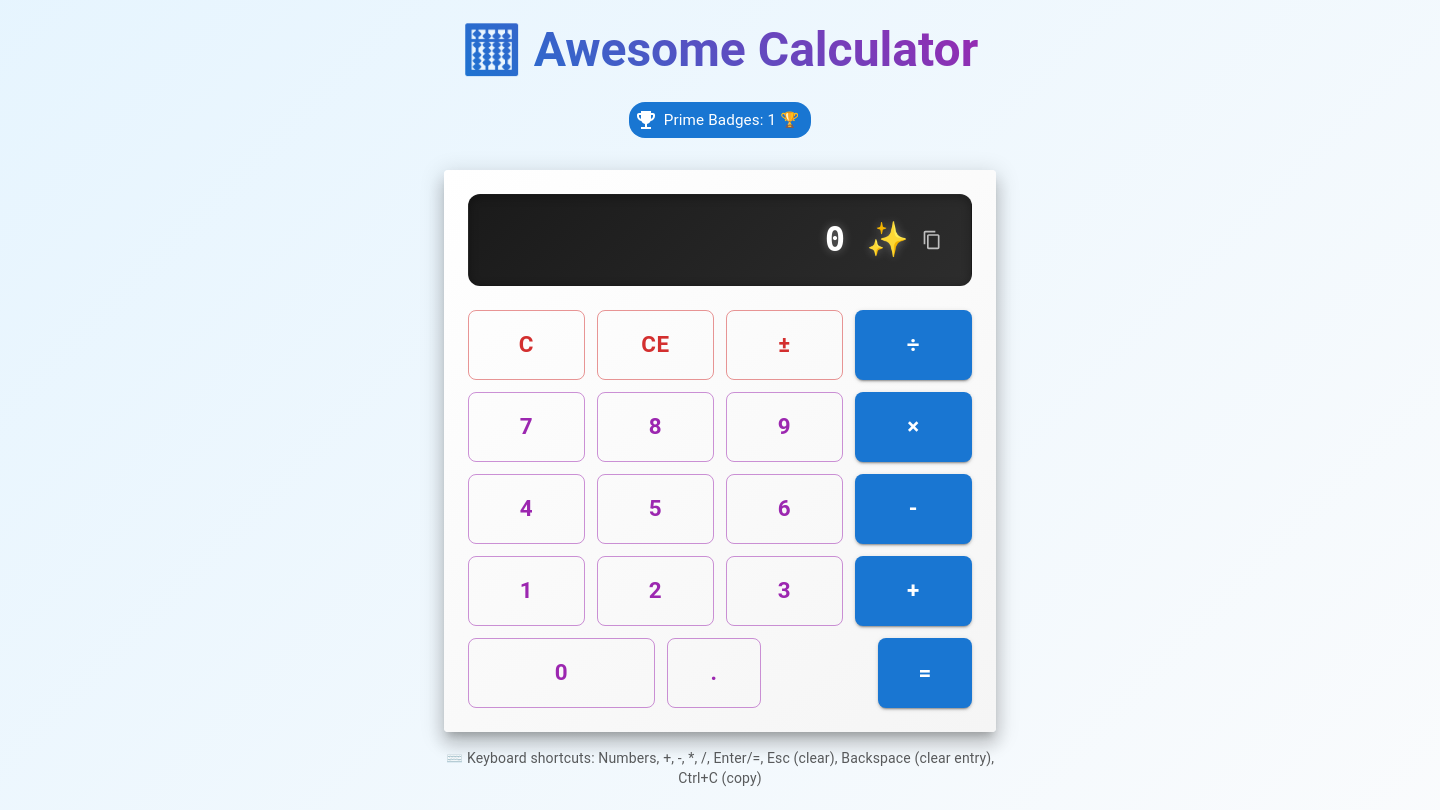
Calculator › Arithmetic Operations › handles chain calculations
This screenshot has width=1440, height=810.
Click the button "2" at (656, 591), box 597,556 -> 714,626
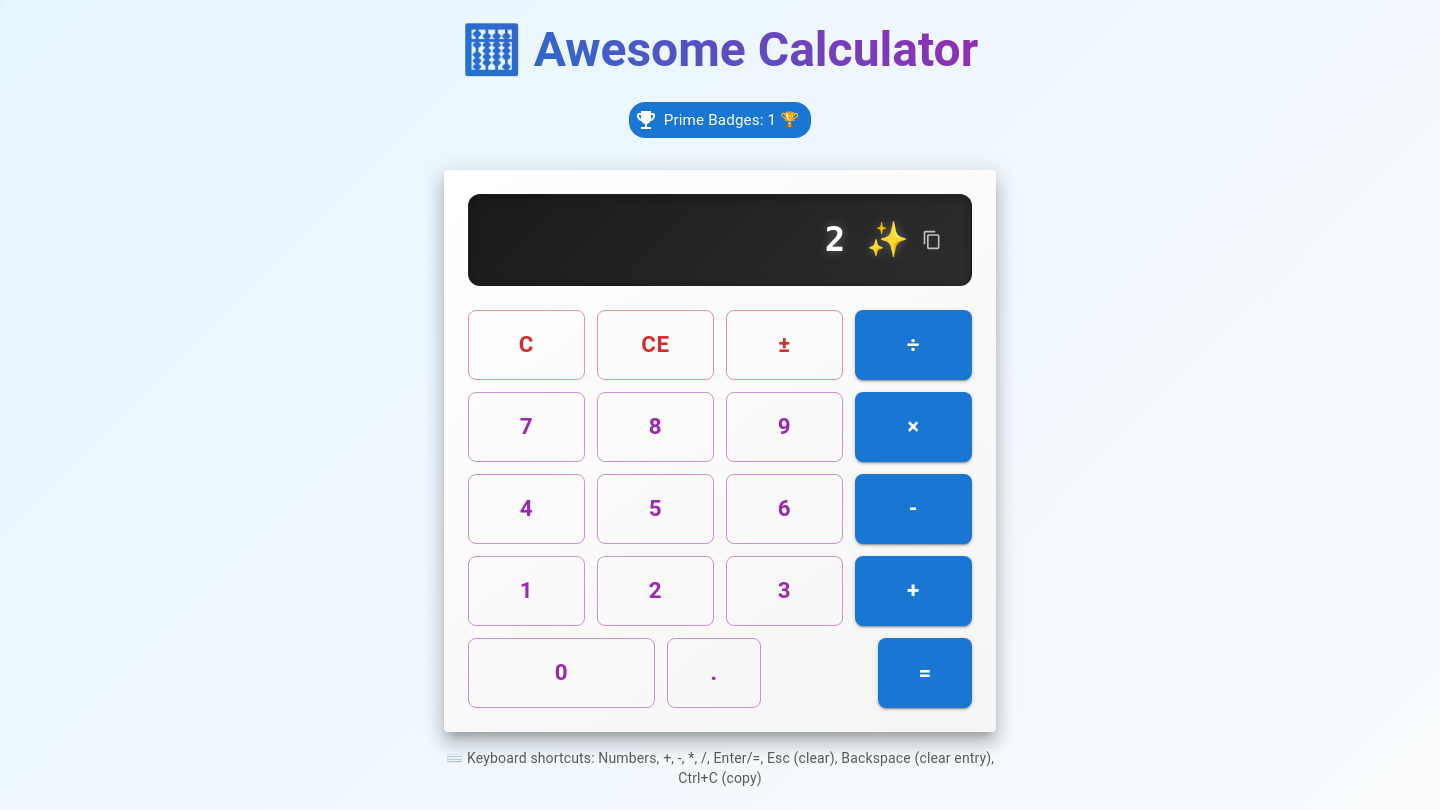
Click the button "+" at (914, 591), box 855,556 -> 972,626
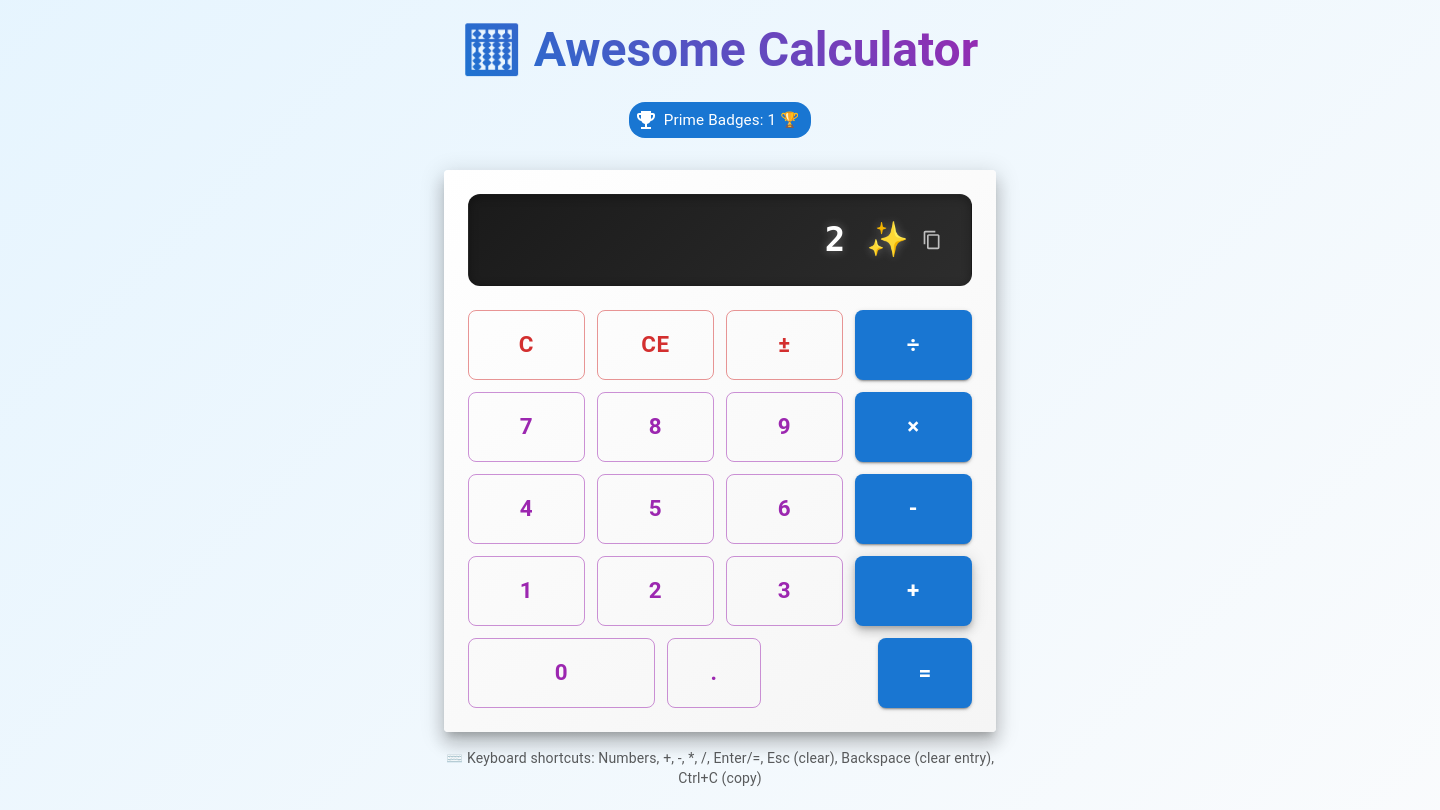
Click the button "3" at (784, 591), box 726,556 -> 843,626
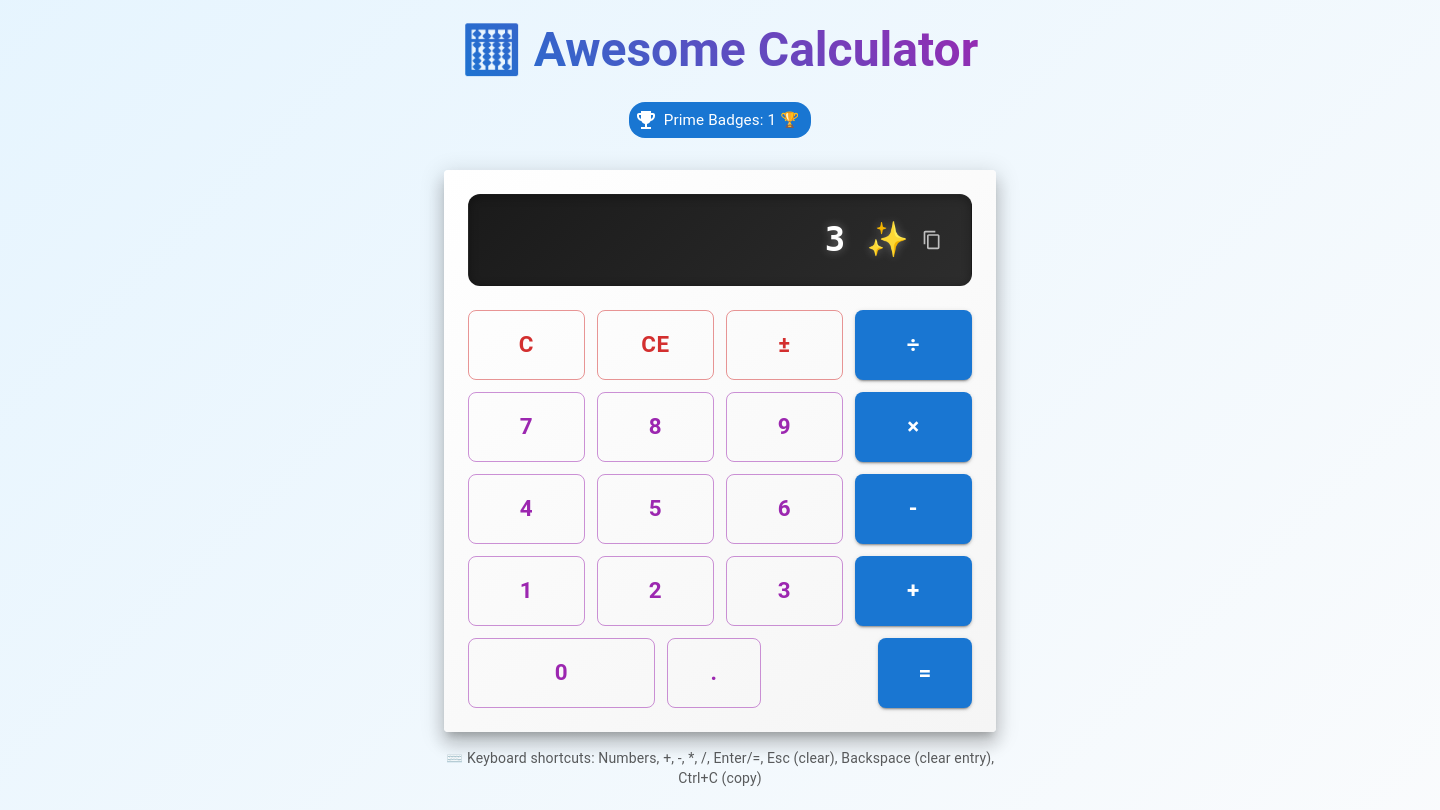
Click the button "×" at (914, 427), box 855,392 -> 972,462
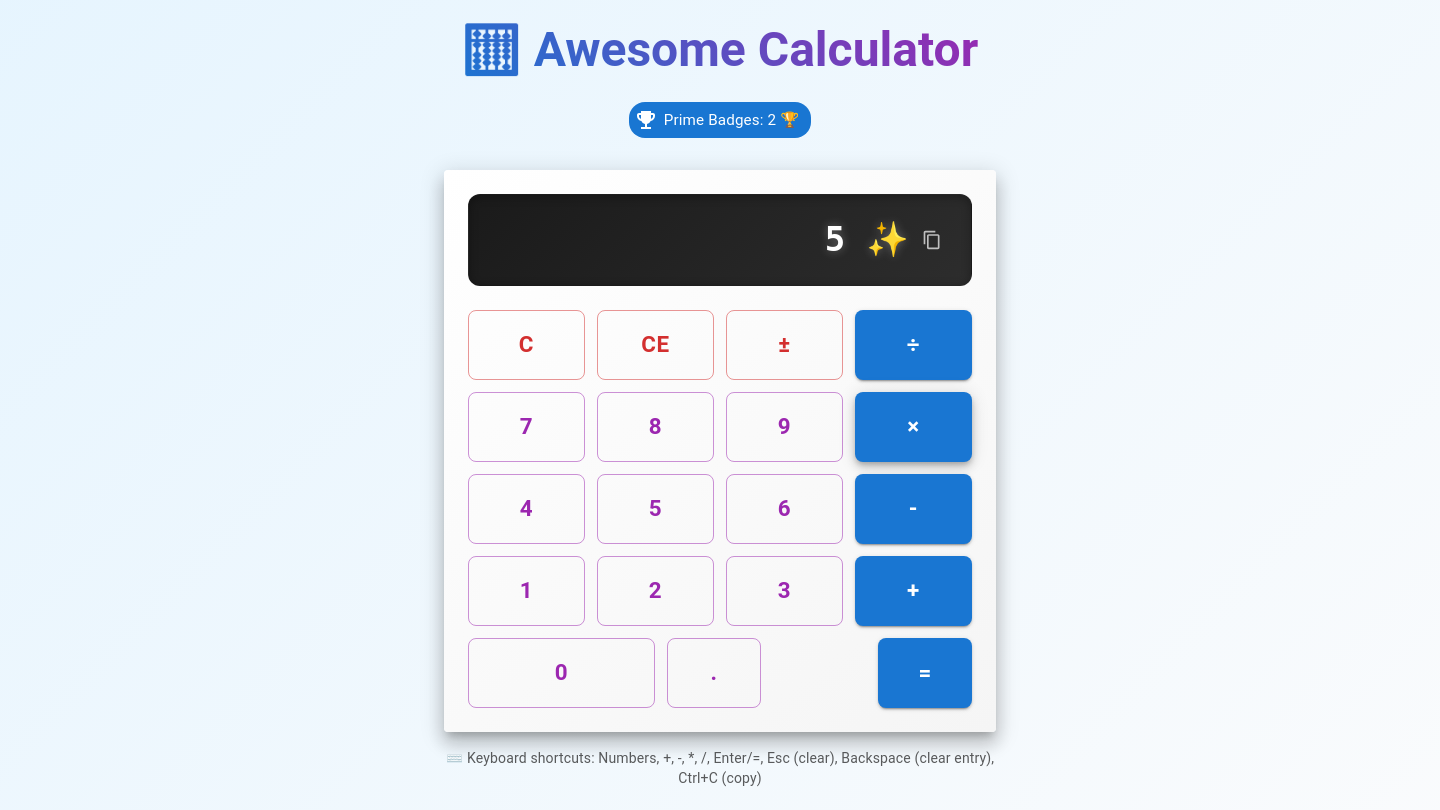
Result: the text "5 ✨" is shown at 825,219 -> 909,261
Click the button "4" at (526, 509), box 468,474 -> 585,544
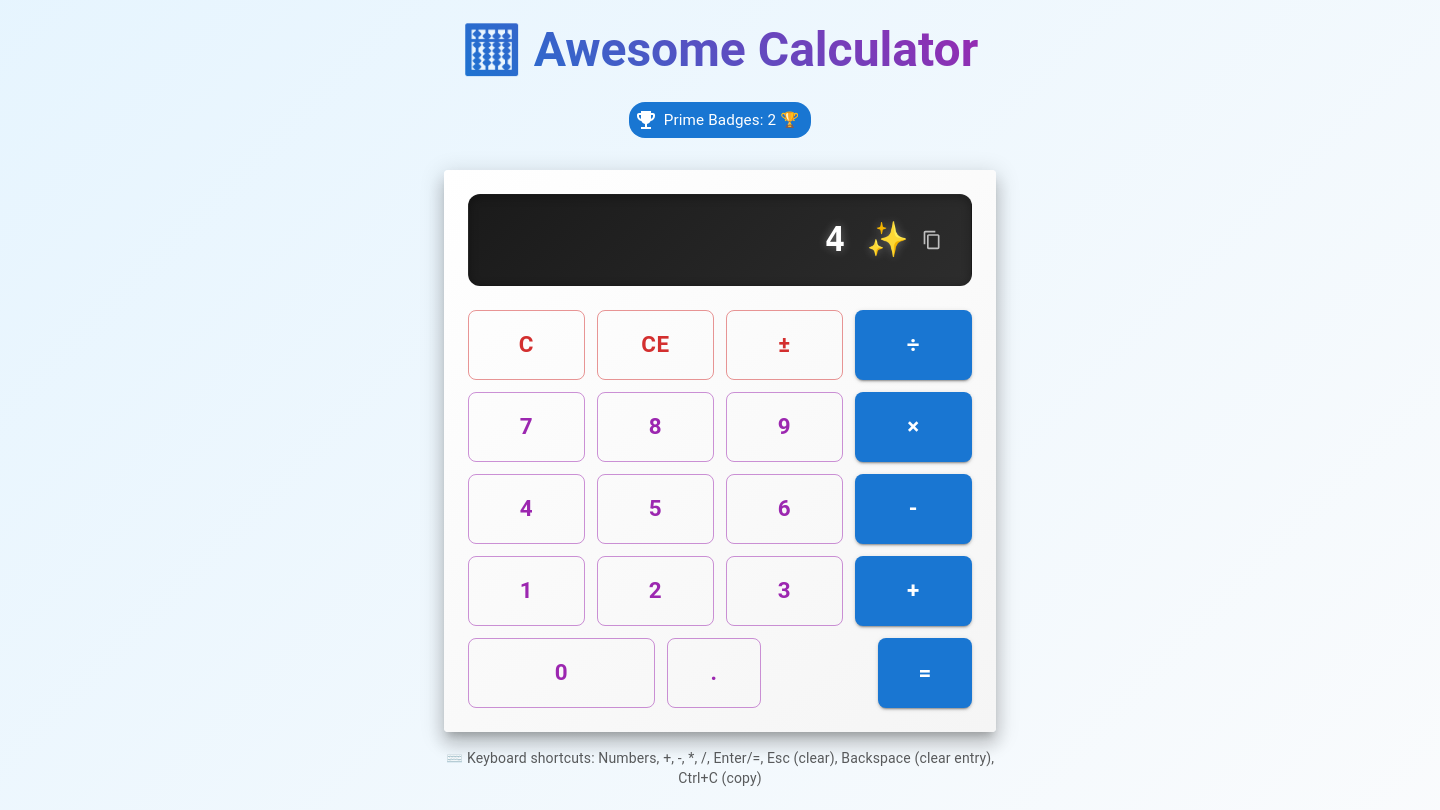
Click the button "=" at (925, 673), box 878,638 -> 972,708
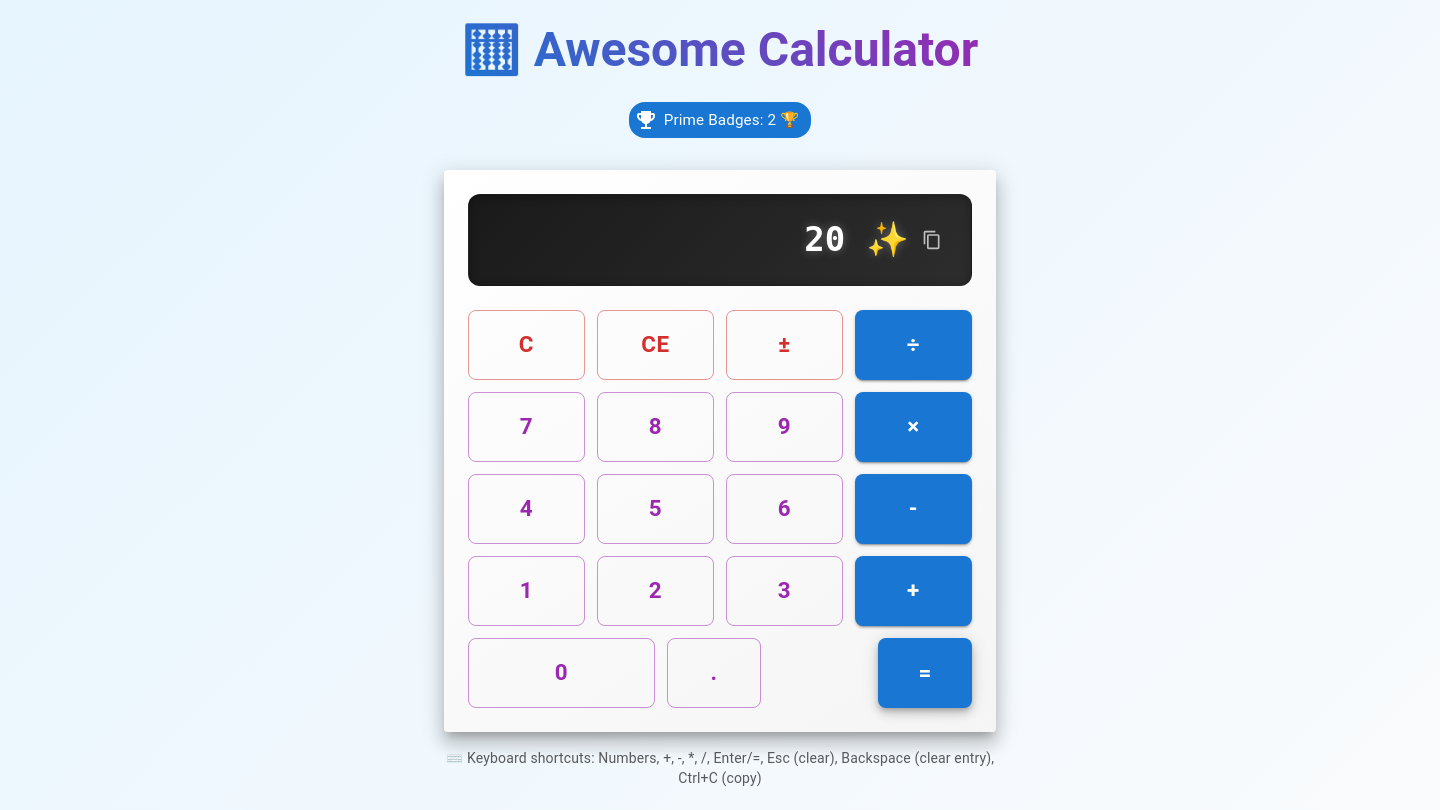
Result: the text "20 ✨" is shown at 804,219 -> 909,261
